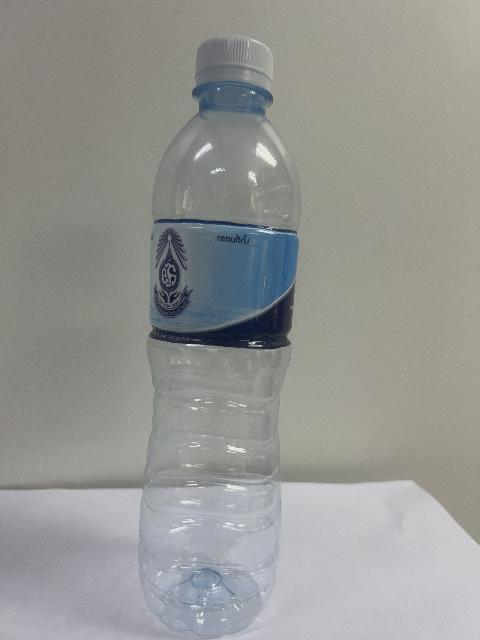bottle: (138, 36, 299, 636)
